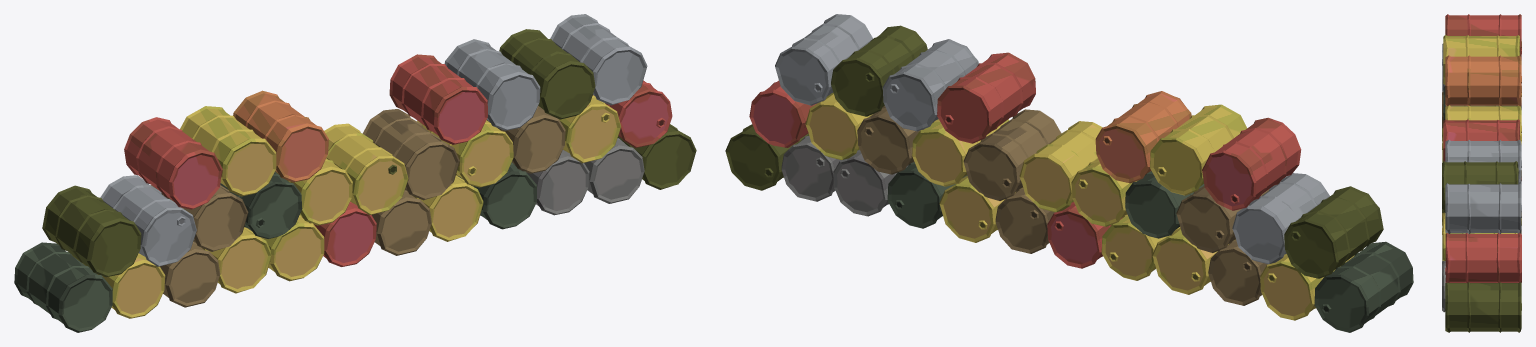
Rendered from SM_Prop_BarrelPile_02.fbx.
The picture shows the model from 3 angles, left to right: view 1: azimuth 30°, elevation 25°; view 2: azimuth 150°, elevation 25°; view 3: azimuth 270°, elevation 25°; orthographic projection. The views are drawn at different scales.
Visible parts, largest first — view 1: SM_Prop_BarrelPile_02; view 2: SM_Prop_BarrelPile_02; view 3: SM_Prop_BarrelPile_02.
Part boxes in pixels (left/top/right/bottom): SM_Prop_BarrelPile_02: left=14, top=14, right=696, bottom=332; SM_Prop_BarrelPile_02: left=725, top=14, right=1413, bottom=332; SM_Prop_BarrelPile_02: left=1442, top=14, right=1521, bottom=332.
Size of the model in its own units: 825 by 189 by 109.
